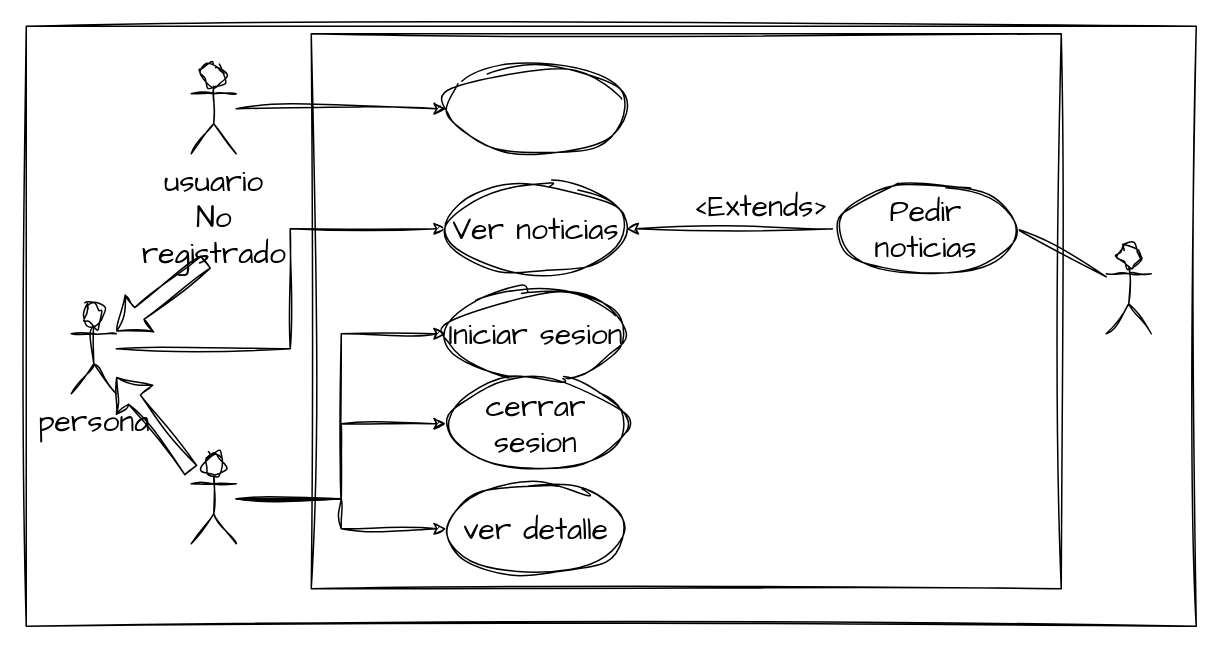
Image size: 1223x653. Some labels were removed from this diagram. The box of each missing label's shape, as (x1, y1, x2, y2) in pixels:
Registrarse: (445, 62, 626, 154)
servidor externo: (1105, 242, 1151, 334)
Usuario: (190, 452, 236, 544)
